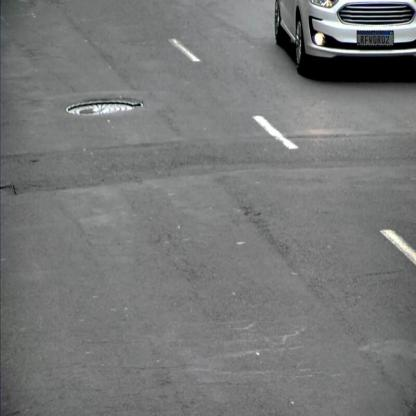PlacaM: (356, 30, 394, 46)
